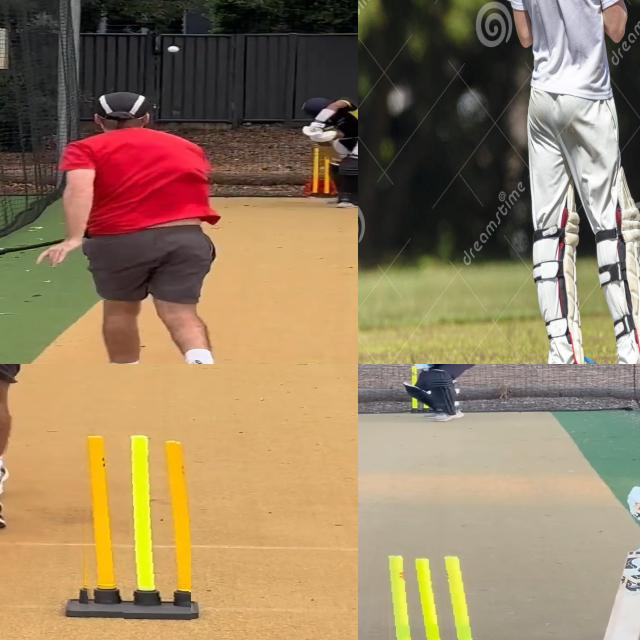Cricket ball: (165, 44, 182, 54)
Stumps: (73, 432, 191, 622), (378, 551, 477, 640)
